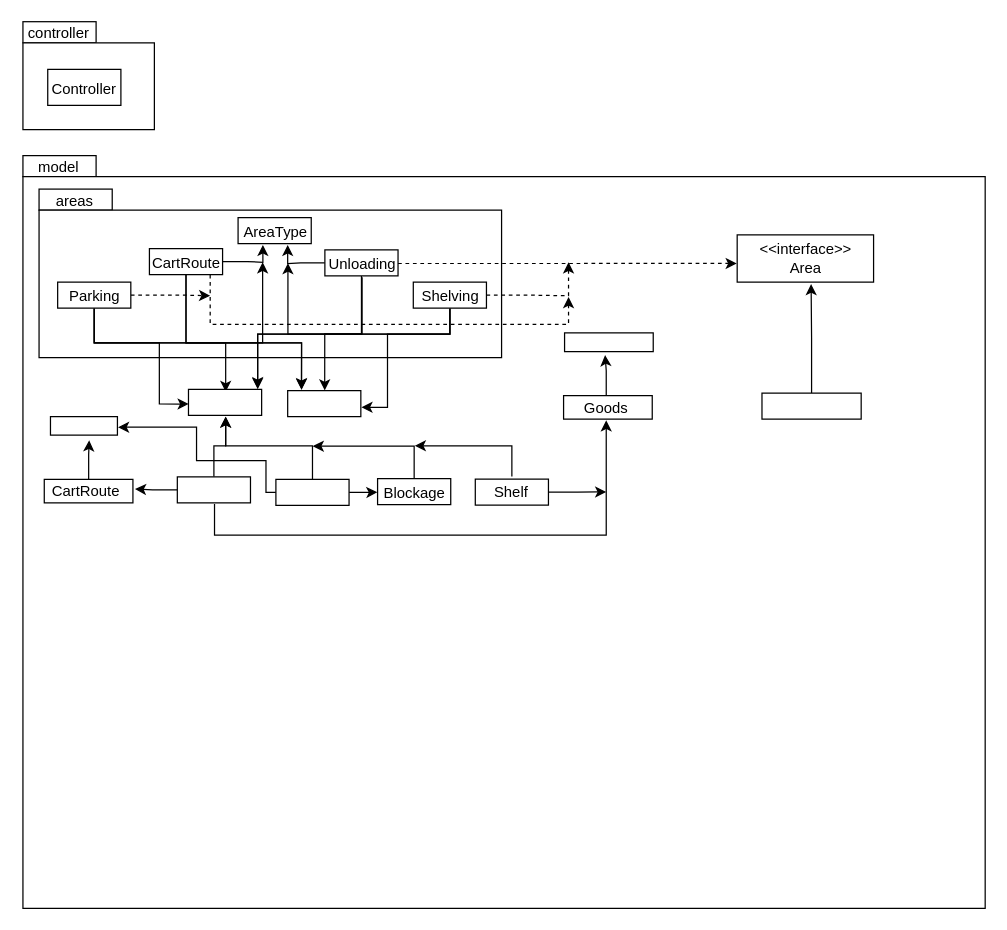
Image size: 1007x930. Some labels were removed from this diagram. Here are the shapes that lost their labels. From the top down, the box of each, then its label:
(563, 332, 653, 352): GoodsType
(187, 388, 262, 415): Coords
(286, 389, 361, 417): Size
(761, 392, 861, 419): Warehouse
(49, 415, 117, 435): Direction
(176, 476, 250, 503): Cart
(275, 478, 349, 505): Path
